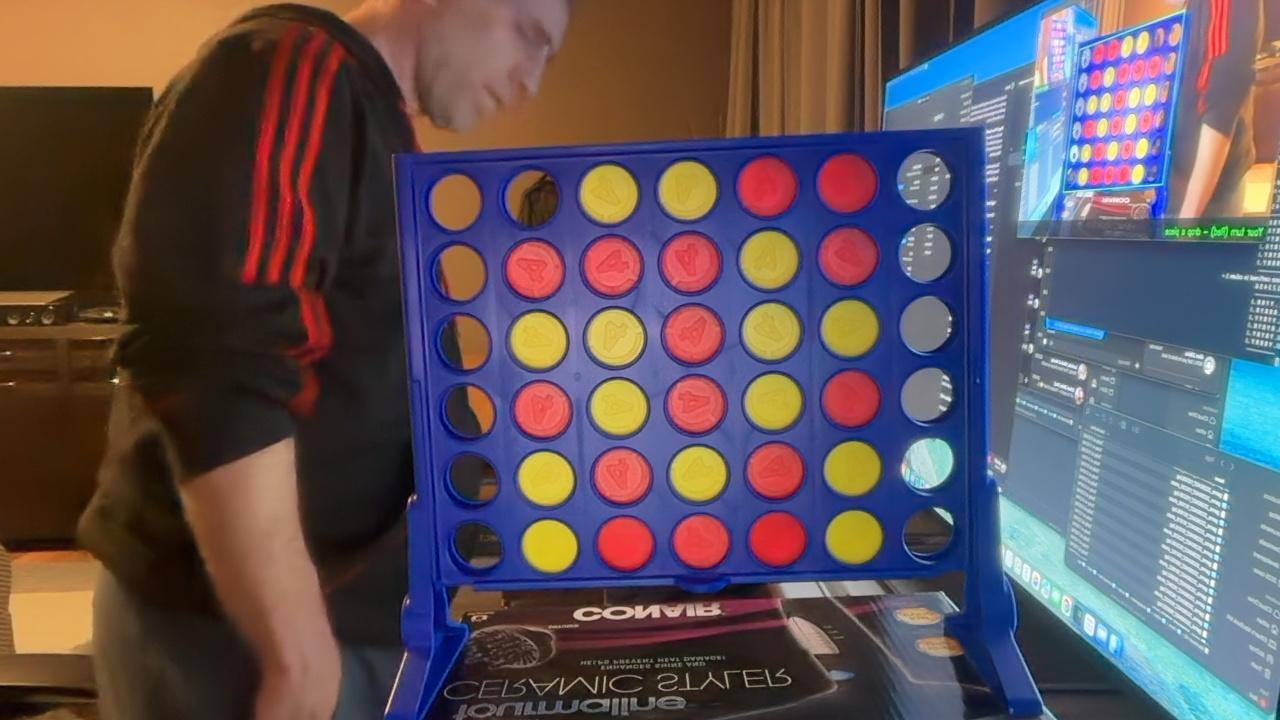red piece: (736, 155, 797, 218), (663, 304, 724, 365), (660, 232, 721, 293), (817, 152, 877, 213), (582, 236, 642, 296), (504, 240, 564, 300), (819, 226, 879, 286), (666, 375, 726, 434), (821, 370, 881, 428), (592, 447, 651, 505), (513, 381, 571, 439), (746, 442, 804, 500), (748, 512, 806, 567), (672, 514, 730, 569), (596, 516, 654, 571)
